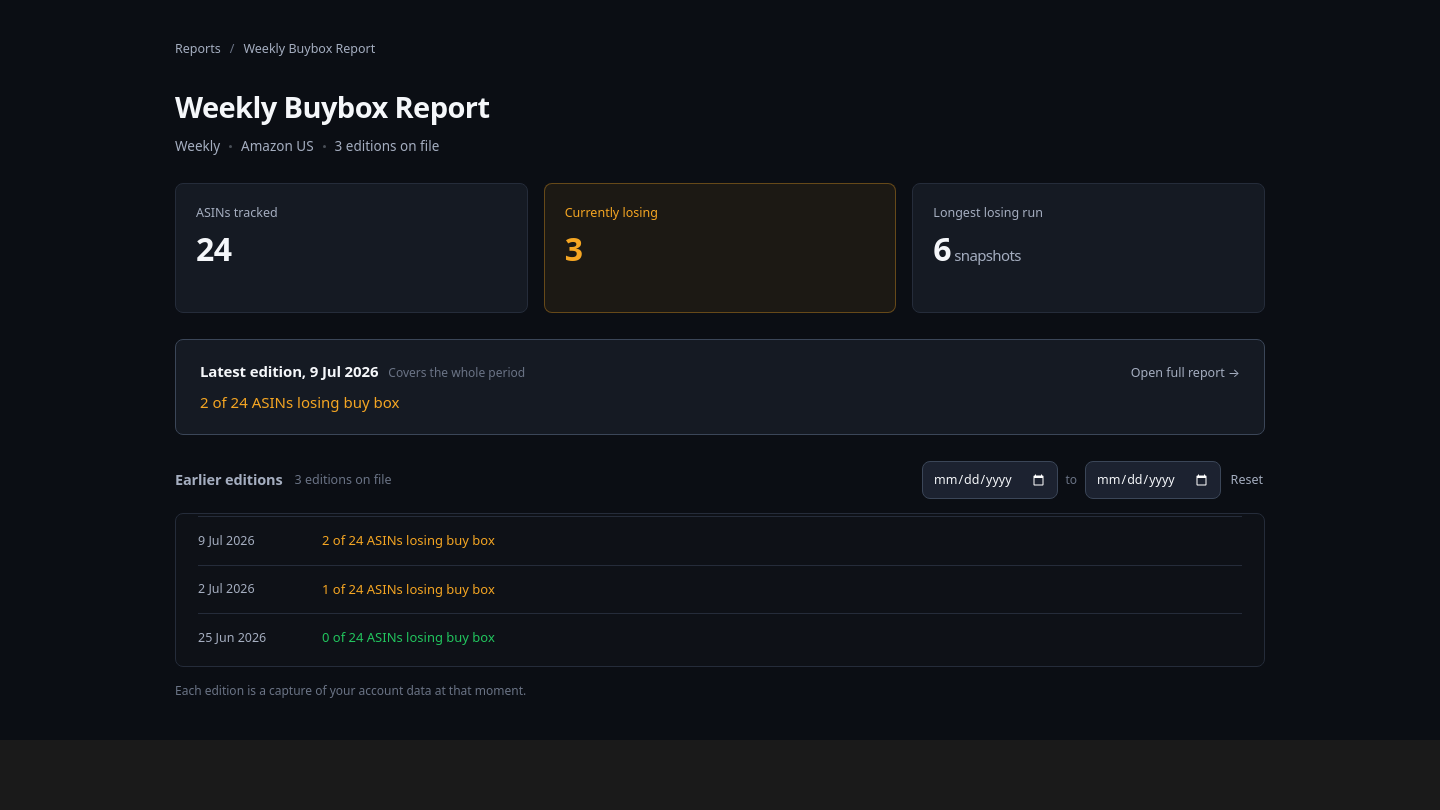
Test: ESF Report History page › filters editions by date and can reset
Check: the text "9 Jul 2026" is shown, box x1=198 y1=532 x2=255 y2=549
Type "2026-07-05" into the date field named "Editions from" at (990, 480), box x1=922 y1=460 x2=1058 y2=499
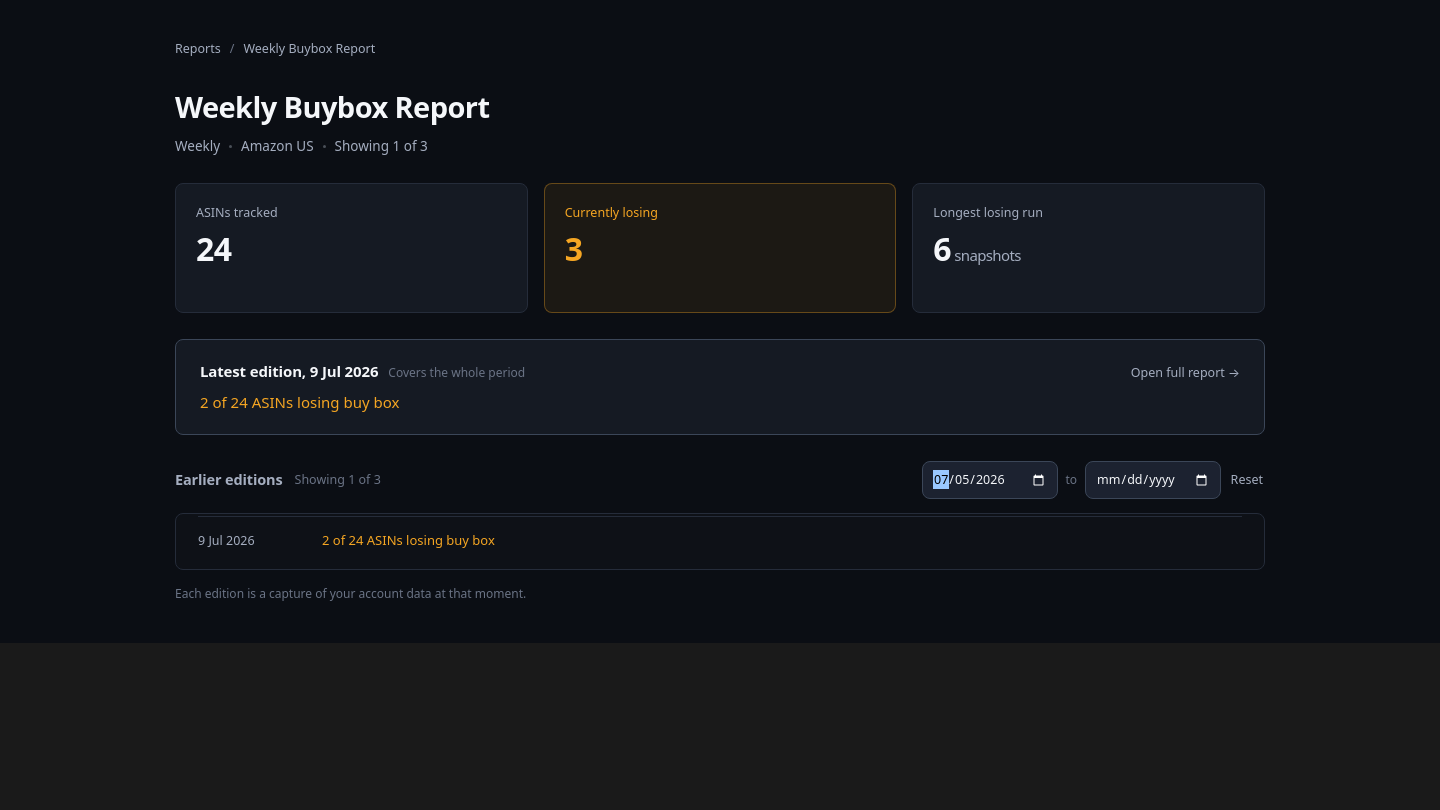
Check: the text "9 Jul 2026" is shown, box x1=198 y1=532 x2=255 y2=549
Check: the text "25 Jun 2026" is gone
Check: the text "Showing 1 of 3" next to "US" is shown, box x1=335 y1=137 x2=428 y2=155
Click the button "Reset" at (1247, 480), box x1=1229 y1=462 x2=1265 y2=497
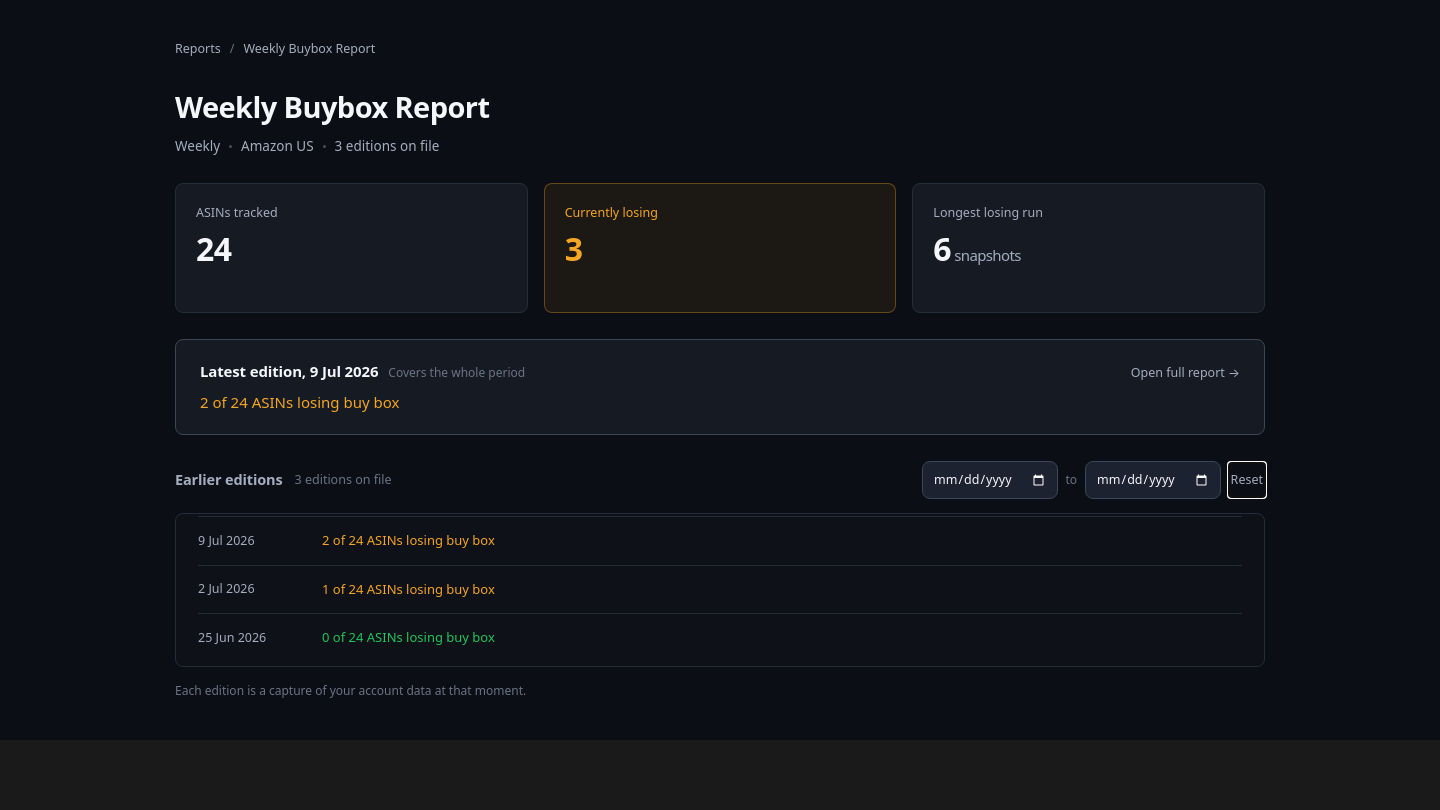
Check: the text "25 Jun 2026" is shown, box x1=198 y1=629 x2=266 y2=646
